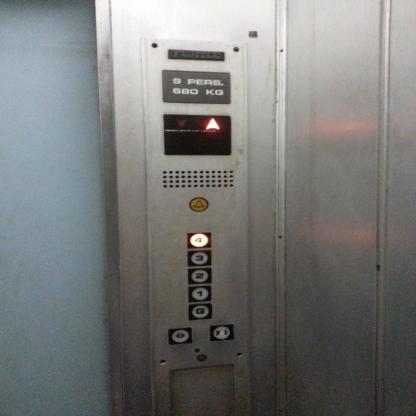1: (188, 284, 212, 303)
2: (187, 267, 212, 285)
3: (186, 249, 212, 266)
4: (186, 232, 212, 248)
G: (187, 303, 213, 320)
alarm: (189, 196, 209, 213)
close: (209, 323, 234, 342)
led: (162, 113, 232, 156)
open: (167, 327, 193, 346)
